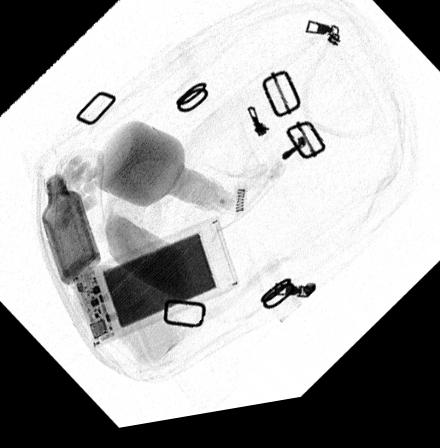Powerbank: (69, 223, 237, 352)
